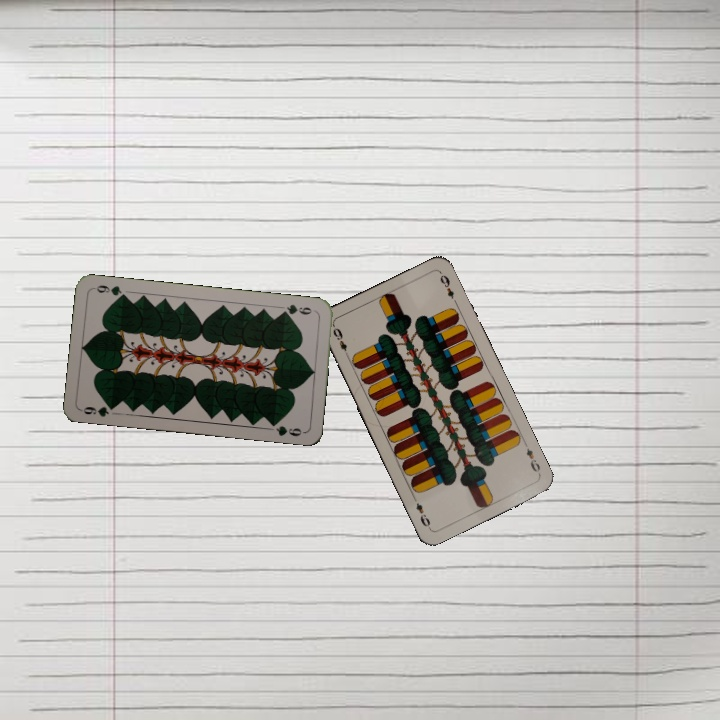E9: (520, 439, 543, 478), (329, 322, 352, 360)
G9: (78, 400, 119, 419), (277, 300, 314, 317)
